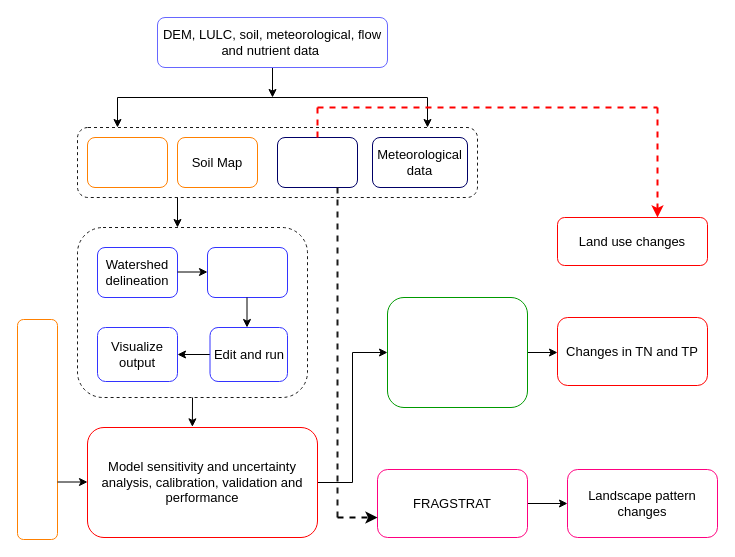
Image size: 735x557. Some labels were removed from this diagram. Each missing label, with the centre of its shape:
Create HURs: point 247,272
DEM: point 127,162
Land use in 2014, 2024: point 317,162
Steam flow data TP and TN data: point 37,429
SWAT Application: point 457,352
